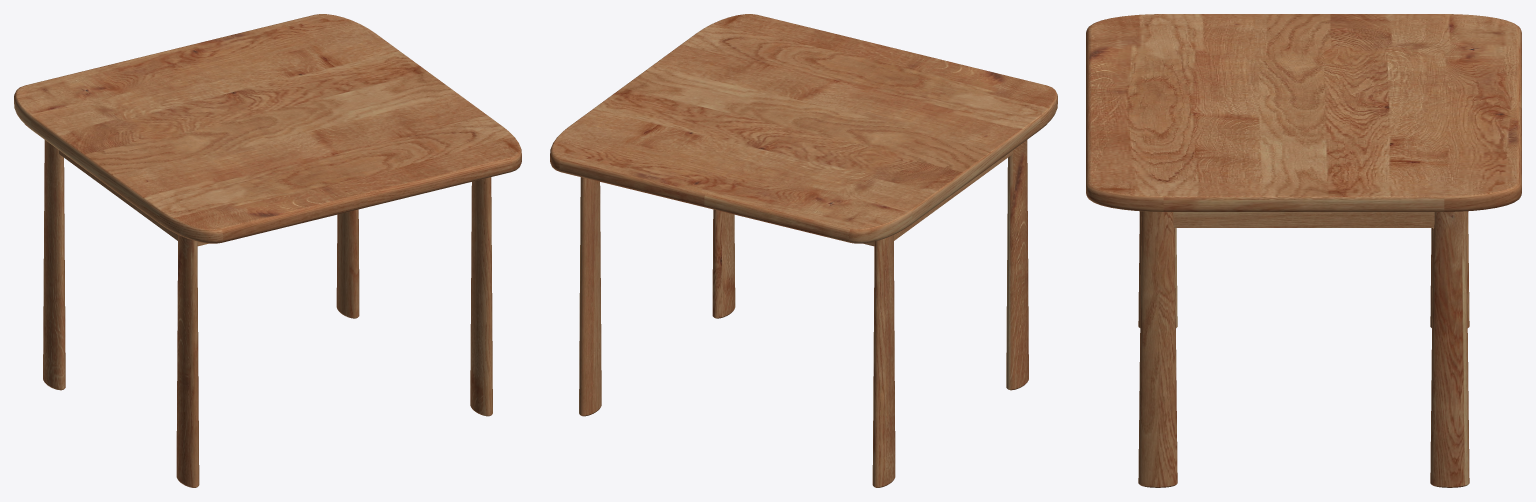
File: table_1.1.glb
The picture shows the model from 3 angles, left to right: view 1: azimuth 30°, elevation 25°; view 2: azimuth 150°, elevation 25°; view 3: azimuth 270°, elevation 25°; orthographic projection. The views are drawn at different scales.
Parts seen in each view (by area): view 1: Table top, Leg, Support frame; view 2: Table top, Leg, Support frame; view 3: Table top, Leg, Support frame.
Boxes of the visible parts, box(x1,y1,x2,y2) form: Table top: box(14, 14, 521, 243); Leg: box(43, 140, 492, 487); Support frame: box(59, 150, 208, 246); Table top: box(550, 14, 1057, 243); Leg: box(579, 140, 1028, 487); Support frame: box(863, 150, 1012, 246); Table top: box(1086, 14, 1521, 211); Leg: box(1138, 211, 1469, 487); Support frame: box(1173, 212, 1434, 227).
Bounding box in the file's own units: 1 × 0.769 × 1.
Materials: 2 (2 with a texture image).
